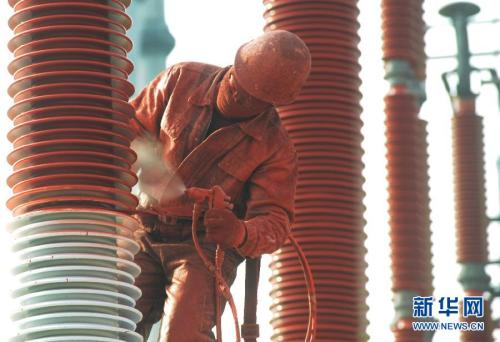gloves: (203, 207, 245, 251)
hard-hat: (234, 28, 312, 106)
person: (127, 29, 312, 342)
ppe-suit: (129, 54, 303, 338)
